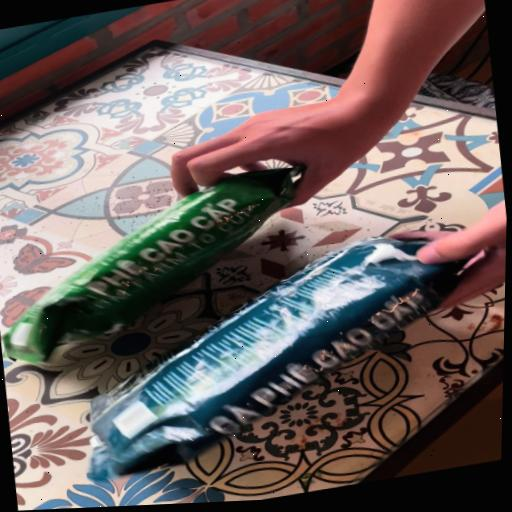cafe_hat: (89, 237, 461, 479), (3, 167, 304, 363)
cafe_xay: (3, 167, 304, 363)
